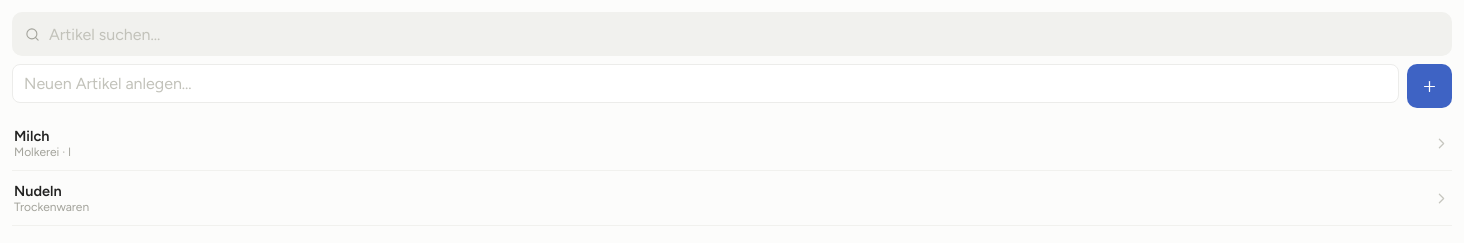
CatalogBrowser › filters the list as the user types, ignoring case
The width and height of the screenshot is (1464, 243).
Step 1. Type "mil" into the search field labelled "Artikel suchen" → (744, 34), box [49,14,1439,54]
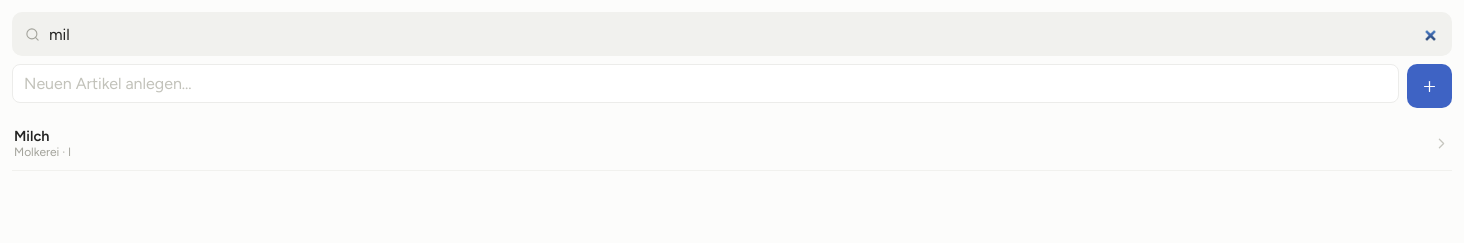
Expected: the button "Milch Molkerei · l" is shown, [12,116,1452,171]
Now the button "Nudeln" is gone
